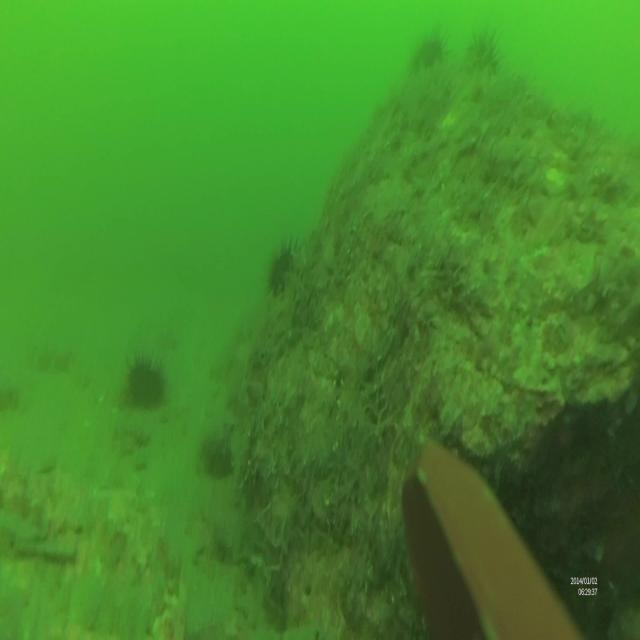echinus: (123, 351, 168, 419), (466, 26, 505, 94), (411, 25, 453, 88), (268, 237, 306, 300)
